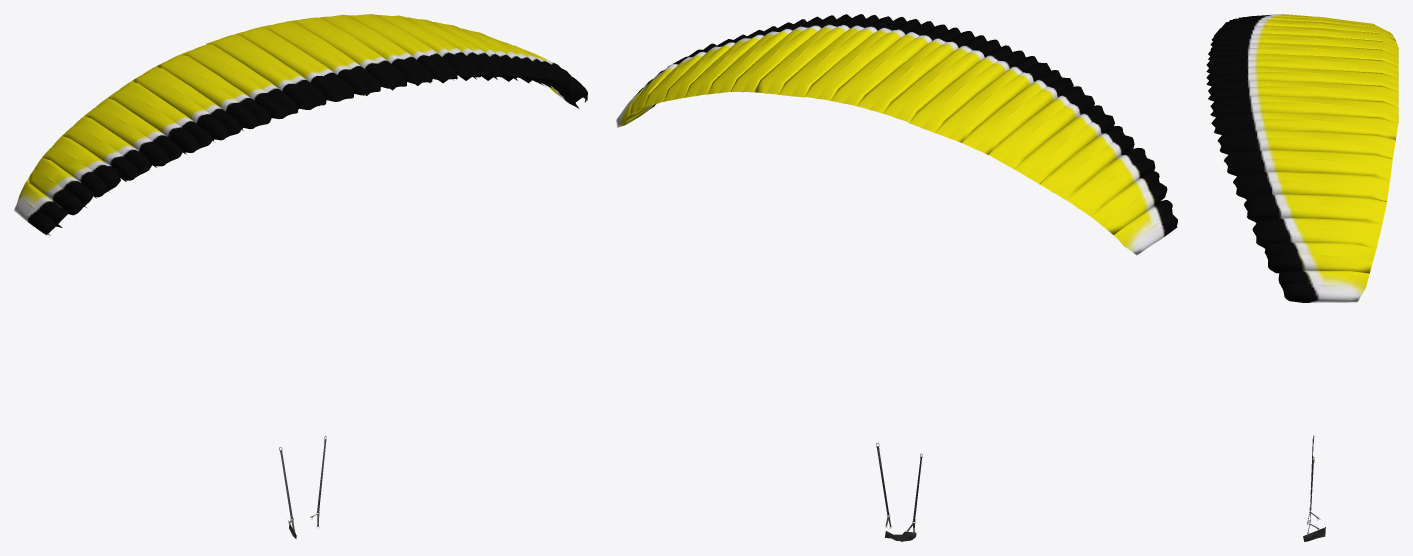
File: paraglider.glb
The picture shows the model from 3 angles, left to right: view 1: azimuth 30°, elevation 25°; view 2: azimuth 150°, elevation 25°; view 3: azimuth 270°, elevation 25°; orthographic projection. The views are drawn at different scales.
Visible parts, largest first — view 1: seg1112; view 2: seg1112; view 3: seg1112.
Boxes of the visible parts, x1,y1,x2,y2 form: seg1112: [14, 14, 587, 235]; seg1112: [616, 14, 1177, 255]; seg1112: [1206, 14, 1398, 302].
Size of the model in its own units: 10.63 by 9.1 by 3.35.
5 materials, 4 textured.
